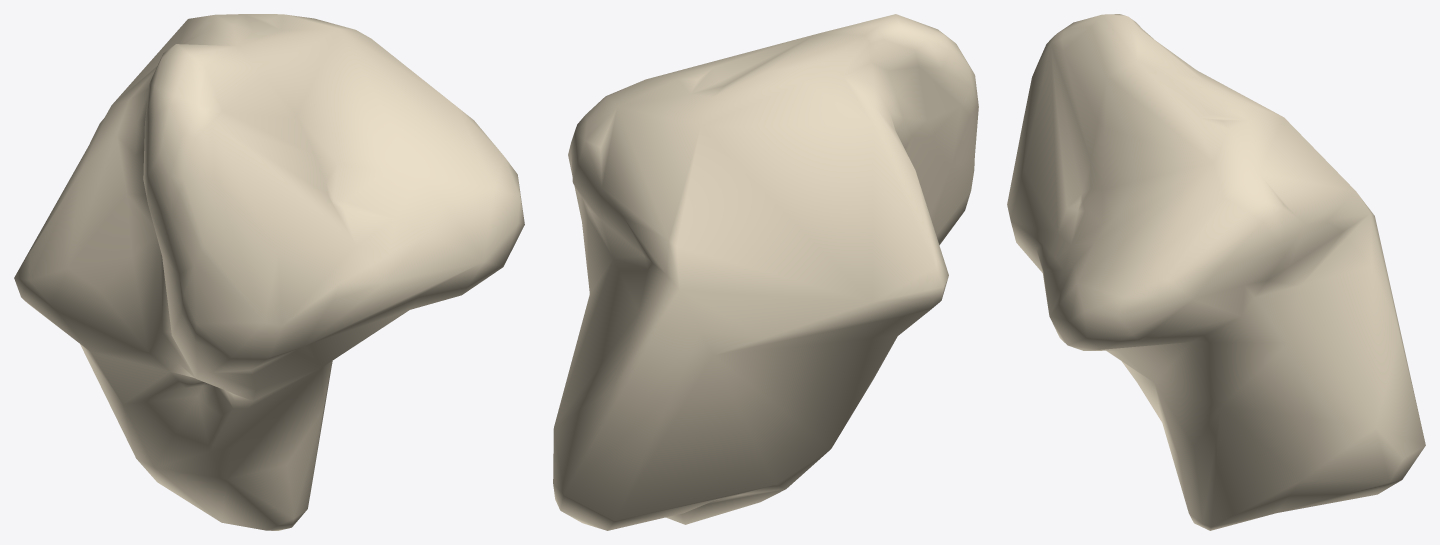
Rendered from trapezium-bone-l.glb.
The picture shows the model from 3 angles, left to right: view 1: azimuth 30°, elevation 25°; view 2: azimuth 150°, elevation 25°; view 3: azimuth 270°, elevation 25°; orthographic projection. The views are drawn at different scales.
Visible parts, largest first — view 1: Trapezium bone.l; view 2: Trapezium bone.l; view 3: Trapezium bone.l.
Boxes of the visible parts, x1,y1,x2,y2 form: Trapezium bone.l: (14, 14, 524, 530); Trapezium bone.l: (553, 14, 978, 530); Trapezium bone.l: (1007, 14, 1425, 530).
Bounding box in the file's own units: 0.0177 × 0.0208 × 0.0175.
